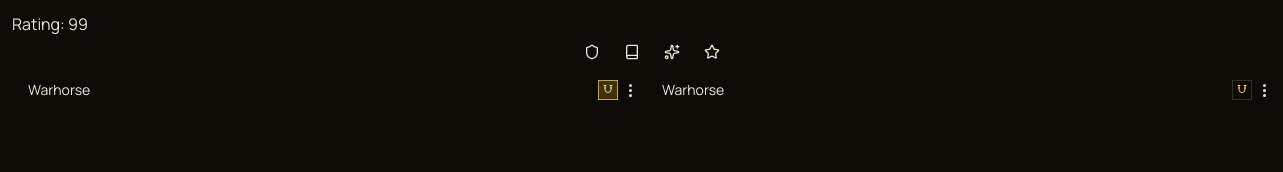
Test case: item rows: the companion switch › splits a ridden copy from a spare one, and switching off names the ridden copy's row
Check: the button named "Warhorse: Ride it" is shown, box [1232,80,1252,100]
Click the button named "Warhorse: Switch off": (608, 90) [598,80,618,100]
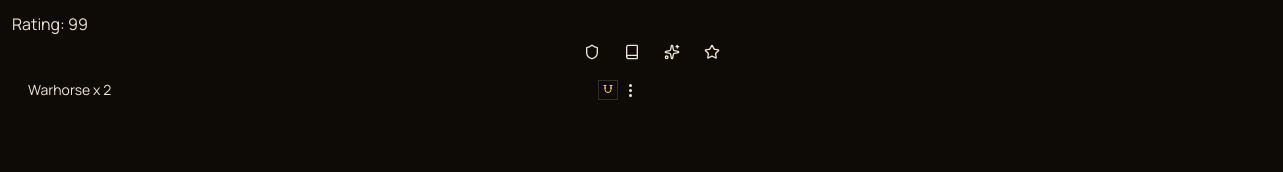
Check: the button "Warhorse x 2" is shown, box [28,80,594,100]
